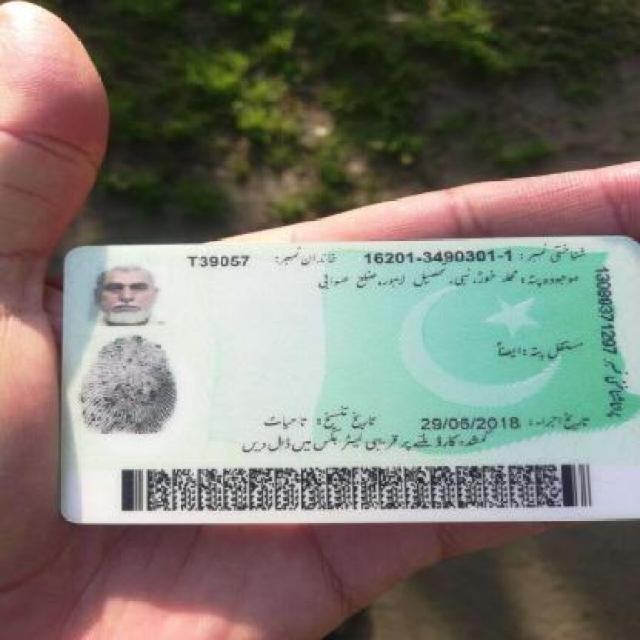Back: (43, 234, 637, 521)
